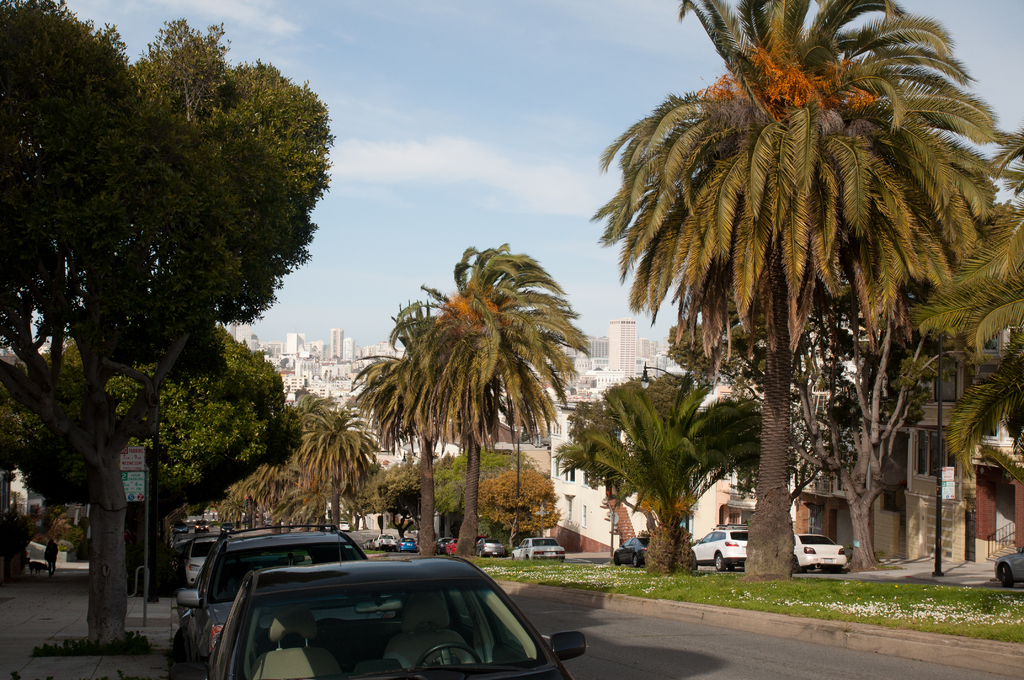Car: (174, 522, 1023, 679), (208, 555, 581, 678), (606, 534, 701, 571), (693, 525, 750, 571), (179, 534, 222, 589), (790, 534, 849, 571), (504, 535, 563, 568), (995, 550, 1023, 588), (478, 537, 503, 555), (369, 535, 396, 550)
